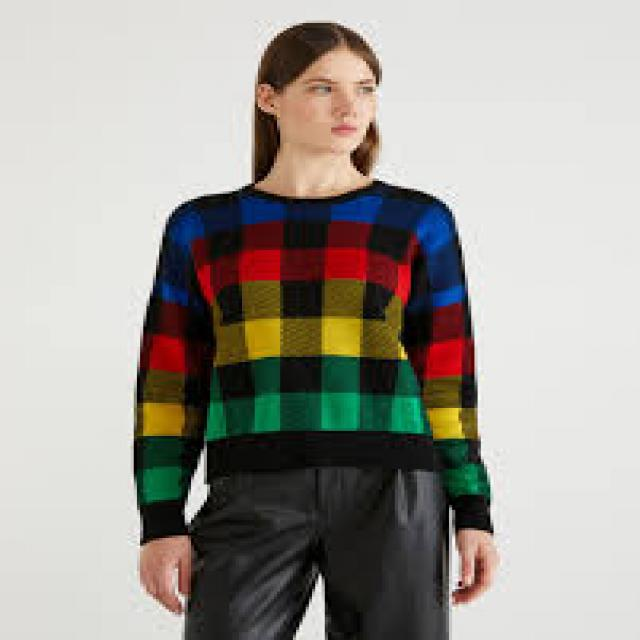plaid: (123, 189, 481, 478)
